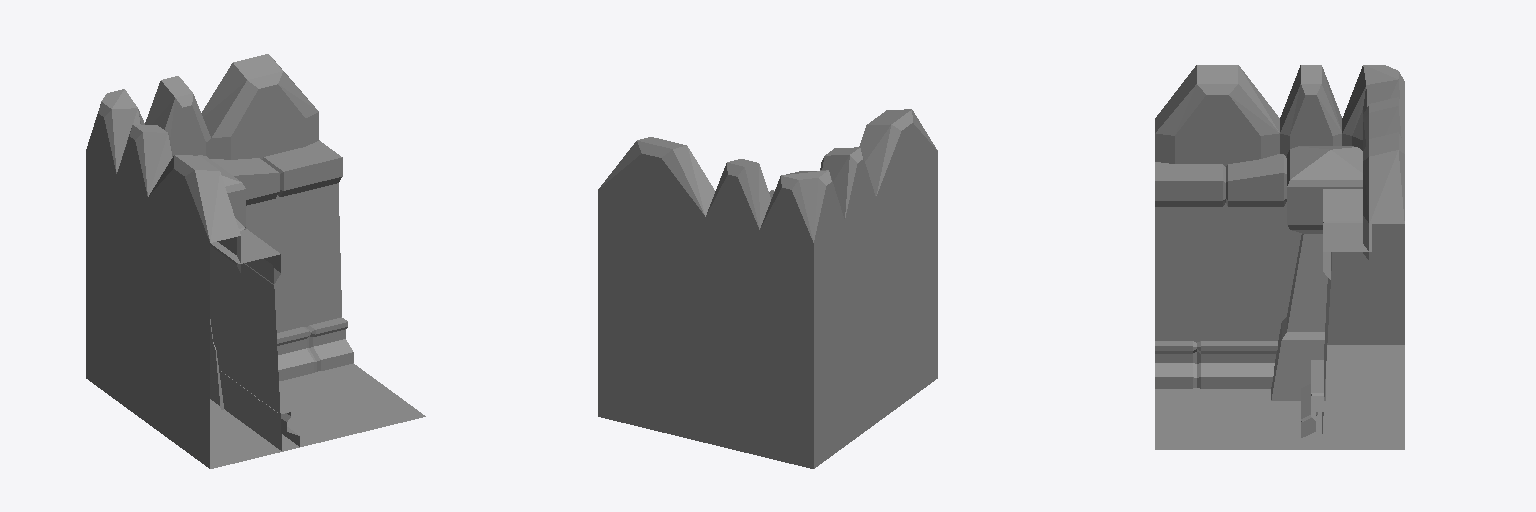
Rendered from Corner_Out.obj.
The picture shows the model from 3 angles: view 1: azimuth 30°, elevation 25°; view 2: azimuth 150°, elevation 25°; view 3: azimuth 270°, elevation 25°; orthographic projection.
Parts seen in each view (by area): view 1: Palette; view 2: Palette; view 3: Palette.
Part boxes in pixels (x1,y1,x2,y2): Palette: (86, 54, 425, 468); Palette: (598, 109, 937, 468); Palette: (1155, 65, 1404, 449).
Size of the model in its own units: 6 by 7.5 by 6.